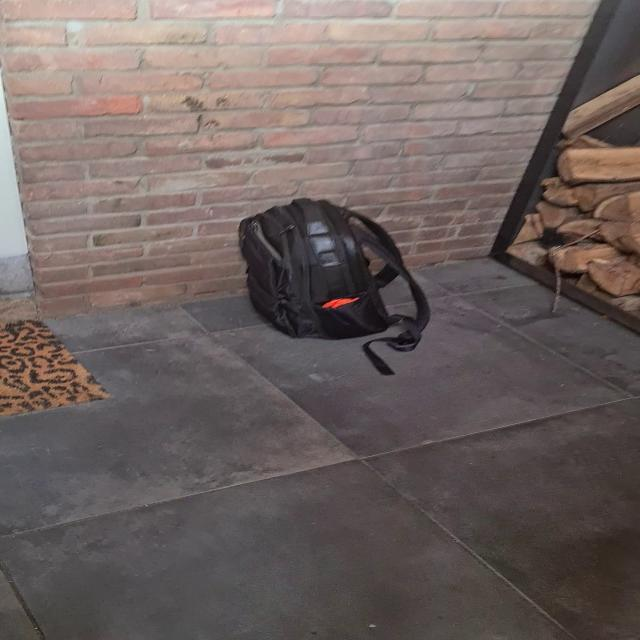backpack: (227, 194, 423, 346)
